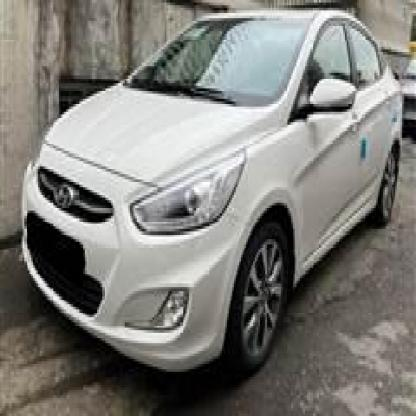Car: (0, 19, 404, 362)
